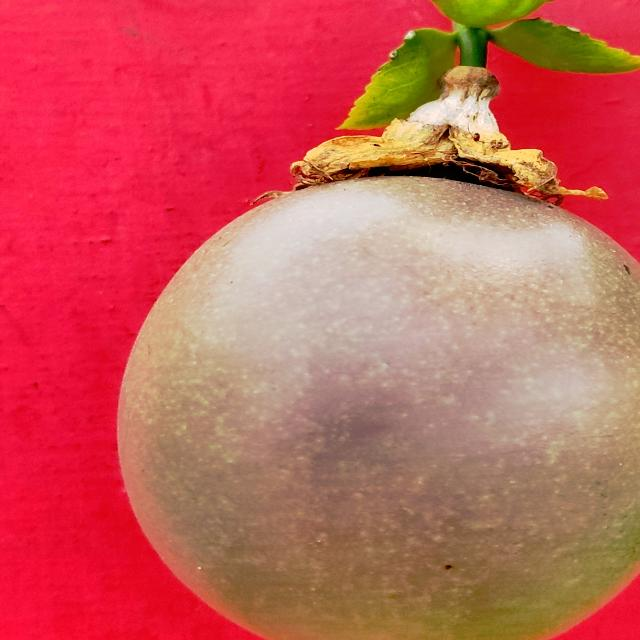Estado-4: (118, 85, 640, 640)
